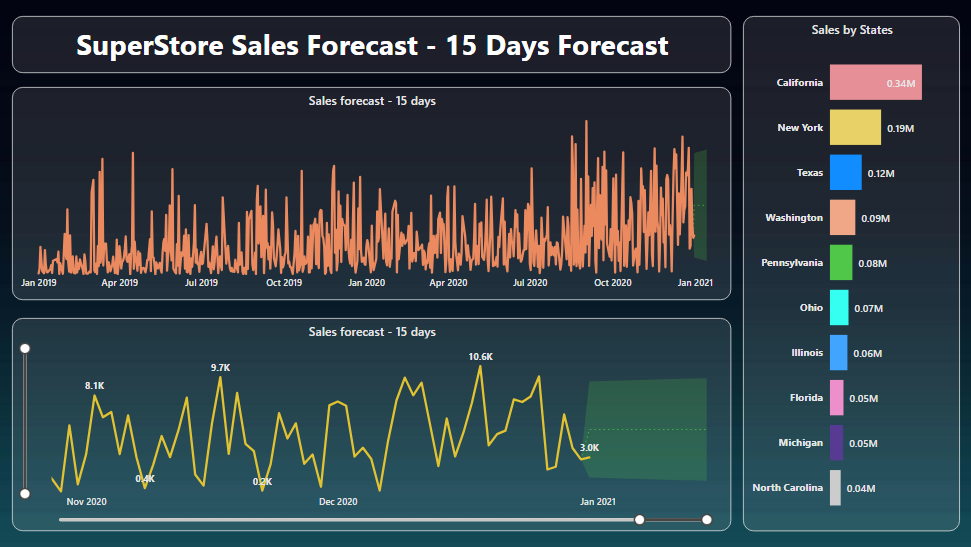

This screenshot's page, from the dashboard's own definition file:
{"tool":"powerbi","page":{"name":"Sales Forecast","canvas":[1280,720],"ordinal":1},"visuals":[{"type":"lineChart","title":"Sales forecast - 15 days","fields":{"Y":["Sum(SuperStore_Sales_Dataset.Sales)"],"Category":["SuperStore_Sales_Dataset.Order Date.Variation.Date Hierarchy.Year","SuperStore_Sales_Dataset.Order Date.Variation.Date Hierarchy.Quarter","SuperStore_Sales_Dataset.Order Date.Variation.Date Hierarchy.Month","SuperStore_Sales_Dataset.Order Date.Variation.Date Hierarchy.Day"]},"box":[17,418.6,944.8,280],"z":0,"group":"g1"},{"type":"lineChart","title":"Sales forecast - 15 days","fields":{"Y":["Sum(SuperStore_Sales_Dataset.Sales)"],"Category":["SuperStore_Sales_Dataset.Order Date"]},"box":[17,115.9,944.8,280],"z":1000,"group":"g1"},{"type":"clusteredBarChart","title":"Sales by States","fields":{"Category":["SuperStore_Sales_Dataset.State"],"Y":["Sum(SuperStore_Sales_Dataset.Sales)"]},"box":[977.5,22.3,285.1,676.6],"z":2000,"group":"g1"},{"type":"textbox","box":[17,22.6,944.8,75],"z":3000,"group":"g1"},{"type":"group","id":"g1","title":"Group 1","box":[17,22.3,1245.7,676.6],"z":3001}]}

Visuals, with their boxes in screenshot pixels (x1, y1, x2, y2), scaled from the page's 1280x720 canvas onto the 971x547 screenshot:
"Sales forecast - 15 days" lineChart: (x1=13, y1=318, x2=730, y2=531)
"Sales forecast - 15 days" lineChart: (x1=13, y1=88, x2=730, y2=301)
"Sales by States" clusteredBarChart: (x1=742, y1=17, x2=958, y2=531)
textbox: (x1=13, y1=17, x2=730, y2=74)
"Group 1" group: (x1=13, y1=17, x2=958, y2=531)
